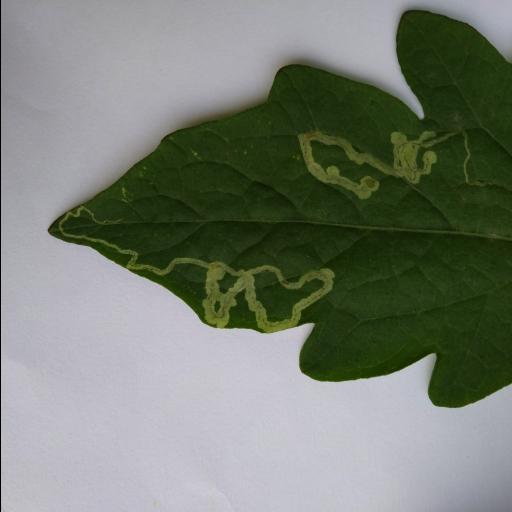disease_tomato: (40, 10, 512, 408)
